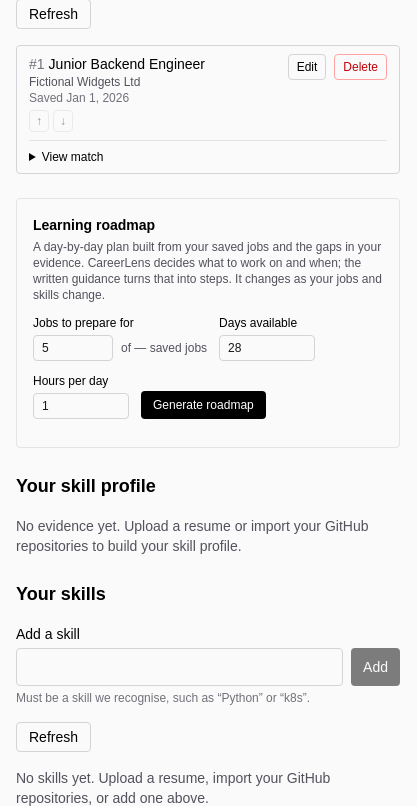
Test: dashboard saved-job coordination › withdraws the roadmap when a job description is edited
The width and height of the screenshot is (417, 806).
(page scrolled)
Expected: the text "Junior Backend Engineer" is shown, [49,56,205,72]
Click the button "Generate roadmap" at point(203, 405), box [141,391,266,419]
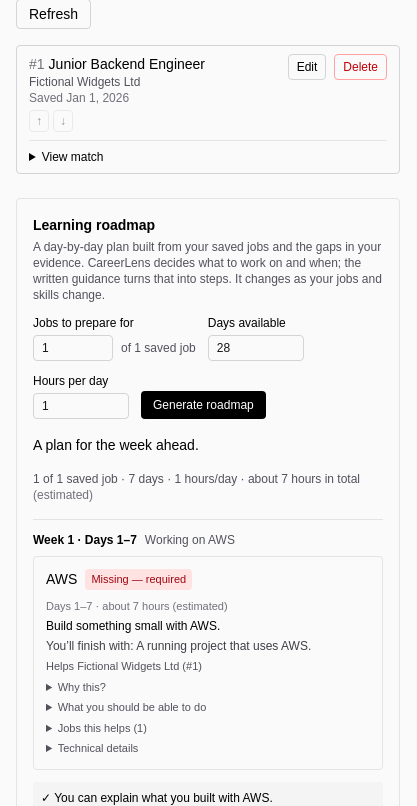
Result: the text "AWS" is shown at [46,569,77,589]
Click the button "Edit" at point(307, 67), box [288,54,326,80]
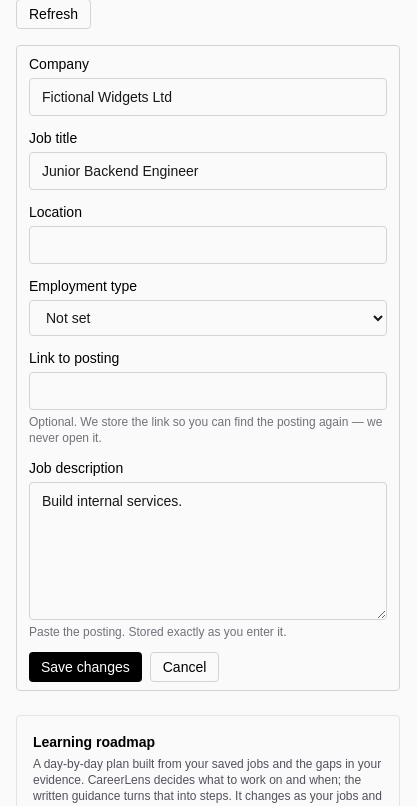
Replace the text in the text box labelled "Job description" with "Now asks for Kubernetes instead." at point(208, 551), box [29,482,387,620]
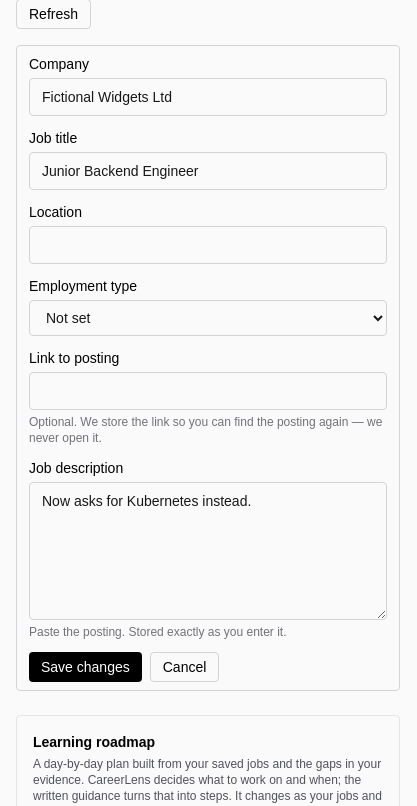
Click the button "Save changes" at point(85, 667), box [29,652,142,682]
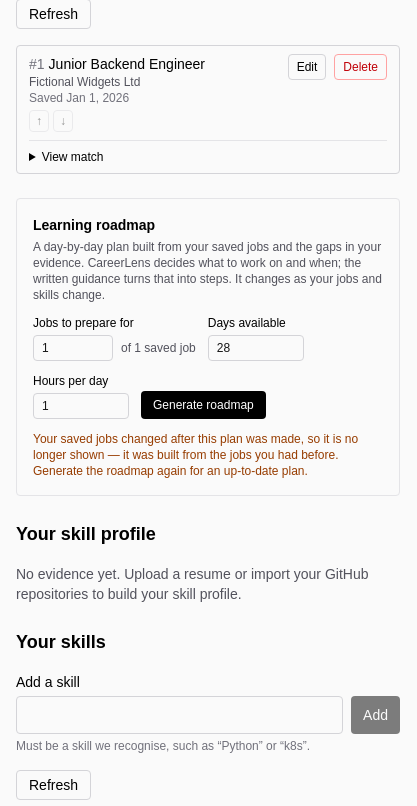
Result: the text "saved jobs changed after this plan was made" is shown at [33,432,358,478]
